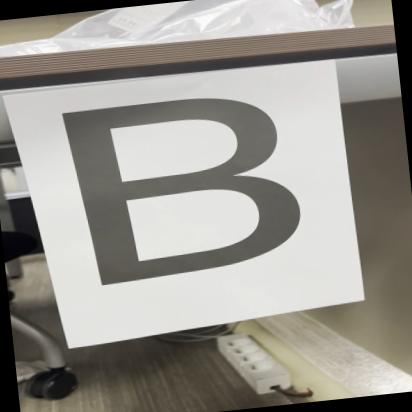seat: (32, 76, 315, 295)
